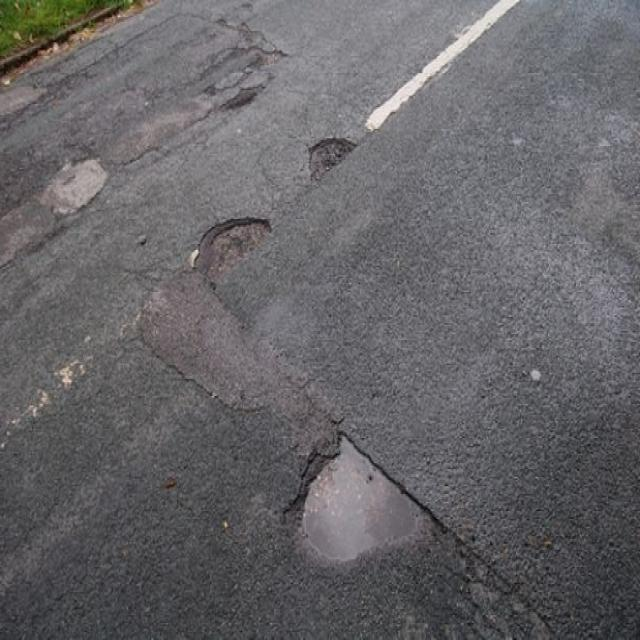pothole: (280, 424, 450, 566), (191, 208, 277, 283), (40, 150, 112, 218), (303, 129, 364, 179)
